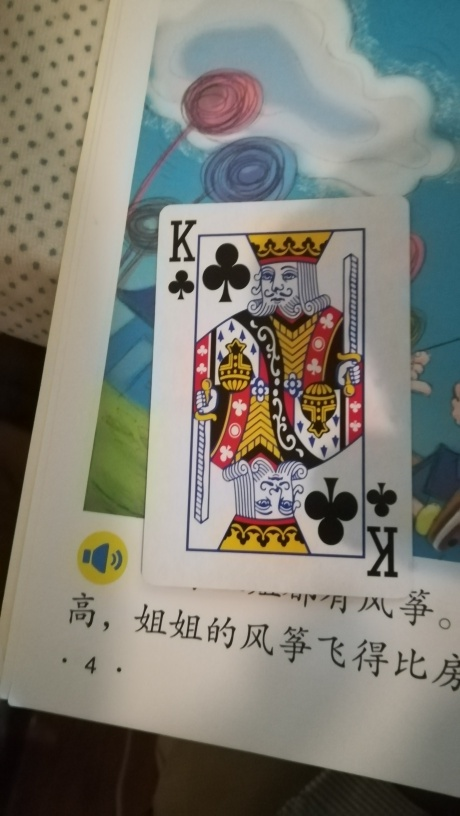mh k: (139, 192, 417, 599)
